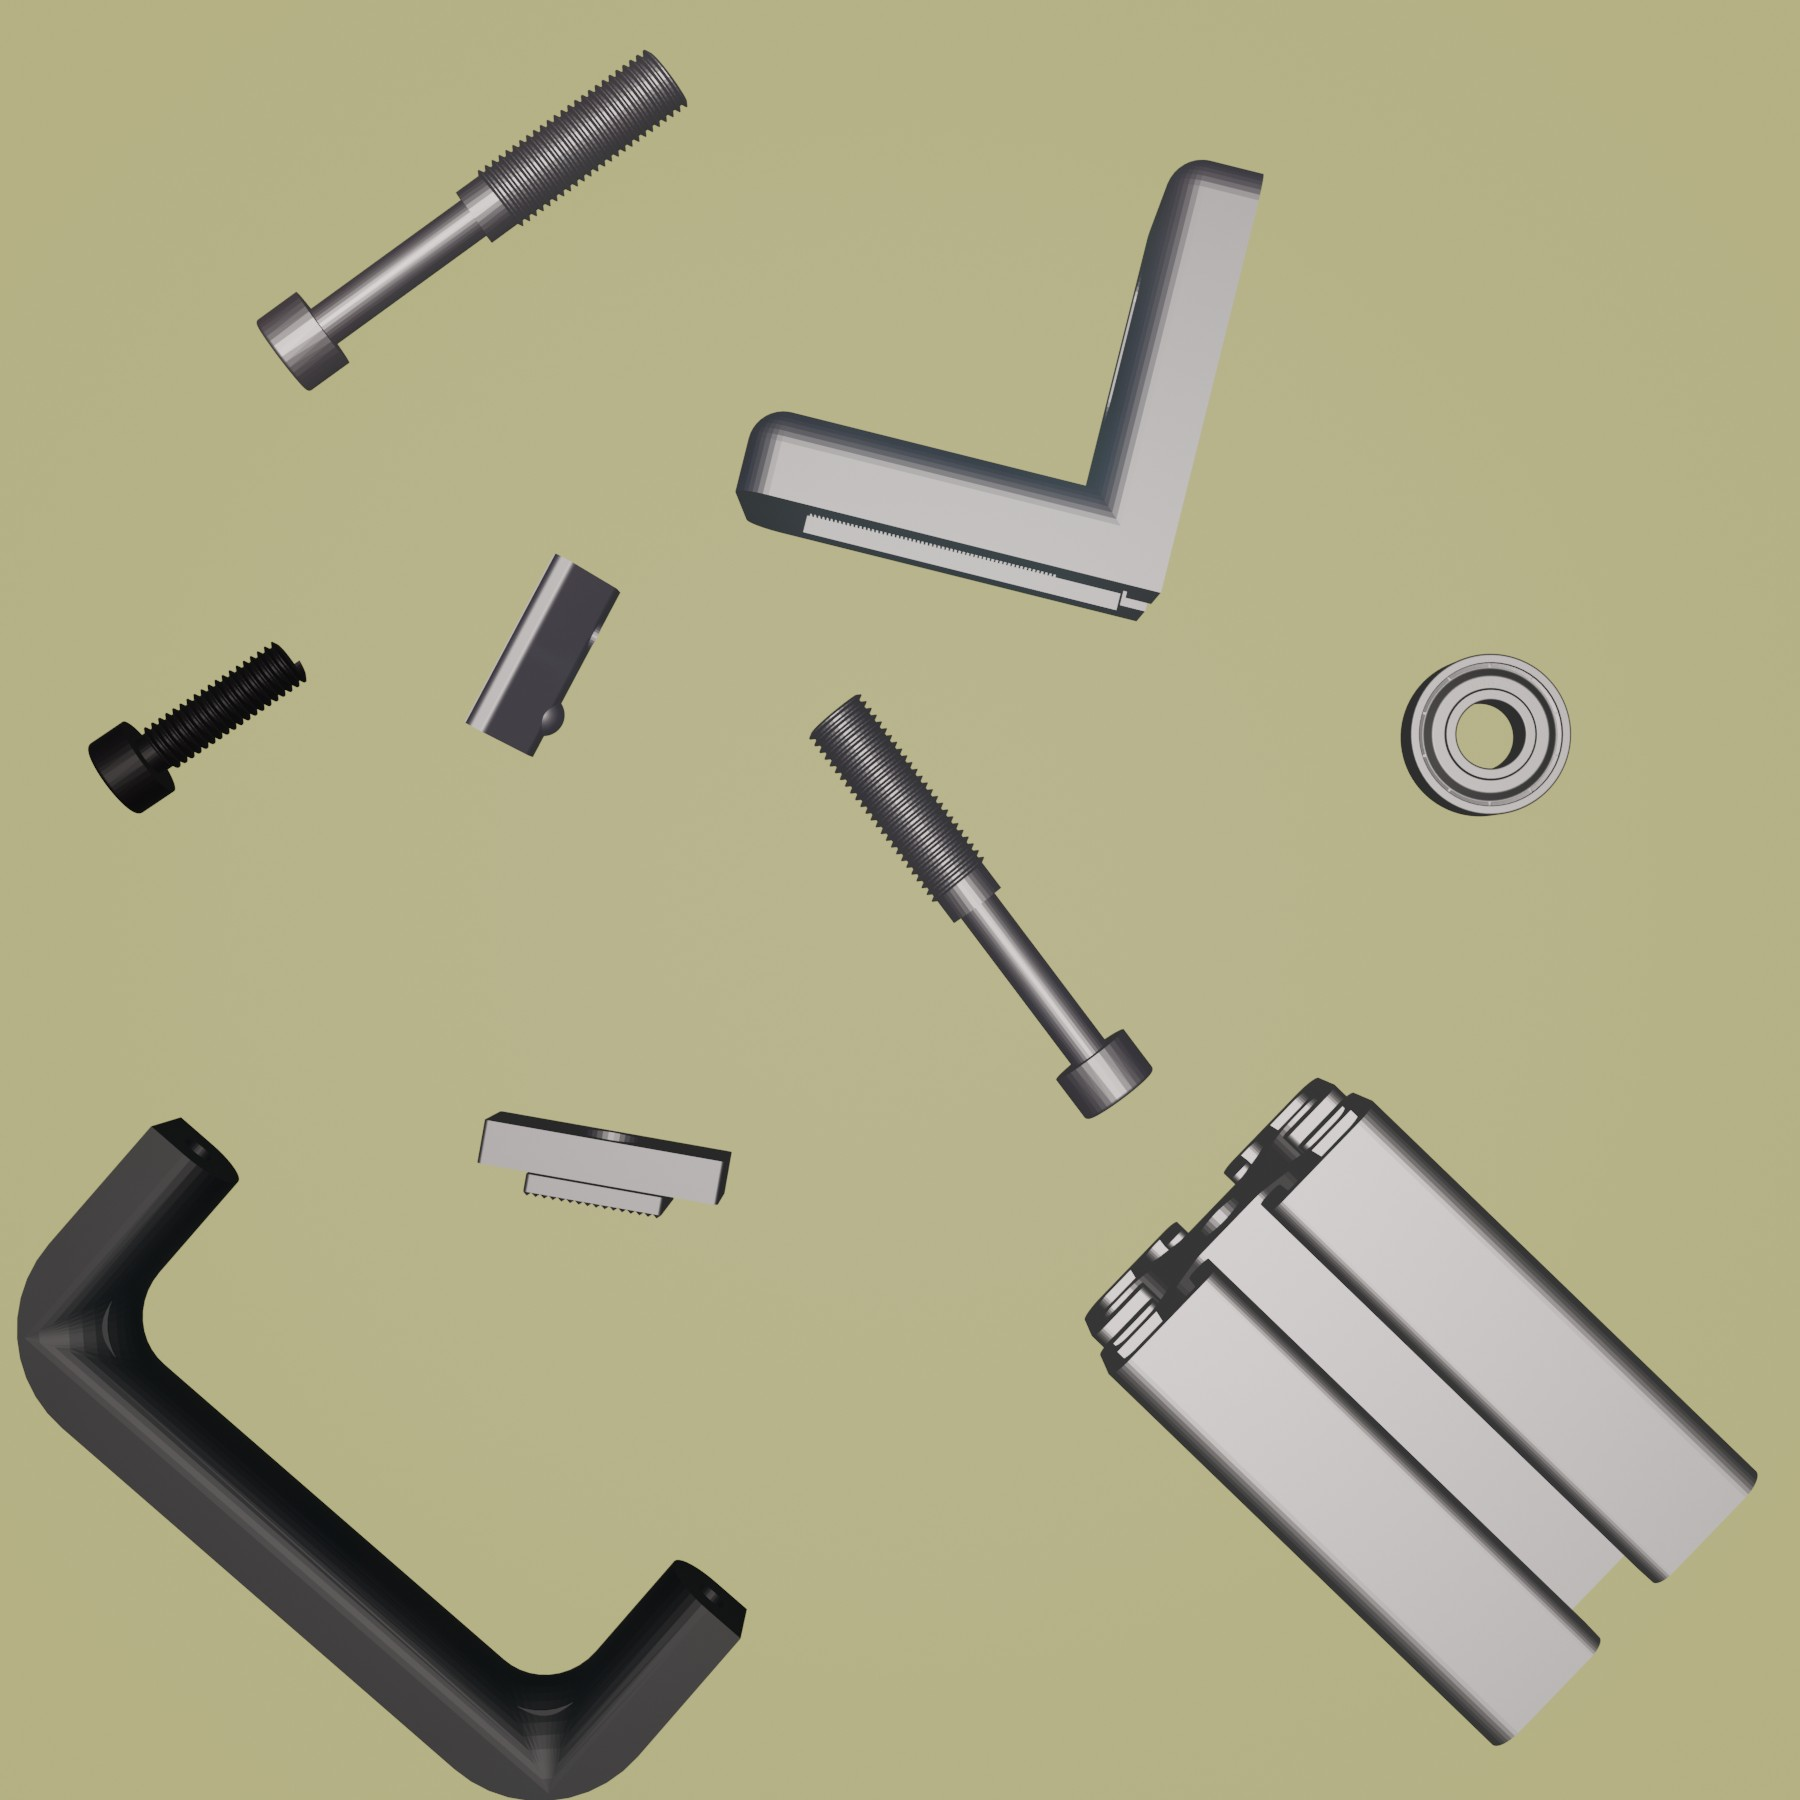Aluminium Extension: (1083, 1078, 1764, 1751)
Ball Bearing: (1399, 653, 1576, 819)
Multiwinkel: (737, 157, 1266, 626)
Pull Handle: (13, 1114, 748, 1800)
Shoulder Socket Head Cap Screw: (254, 49, 687, 396), (804, 692, 1154, 1119)
Socket Head Cap Screw: (86, 640, 307, 818)
T Nut Square: (473, 1108, 734, 1225)
T Spring Nut: (462, 551, 623, 758)
